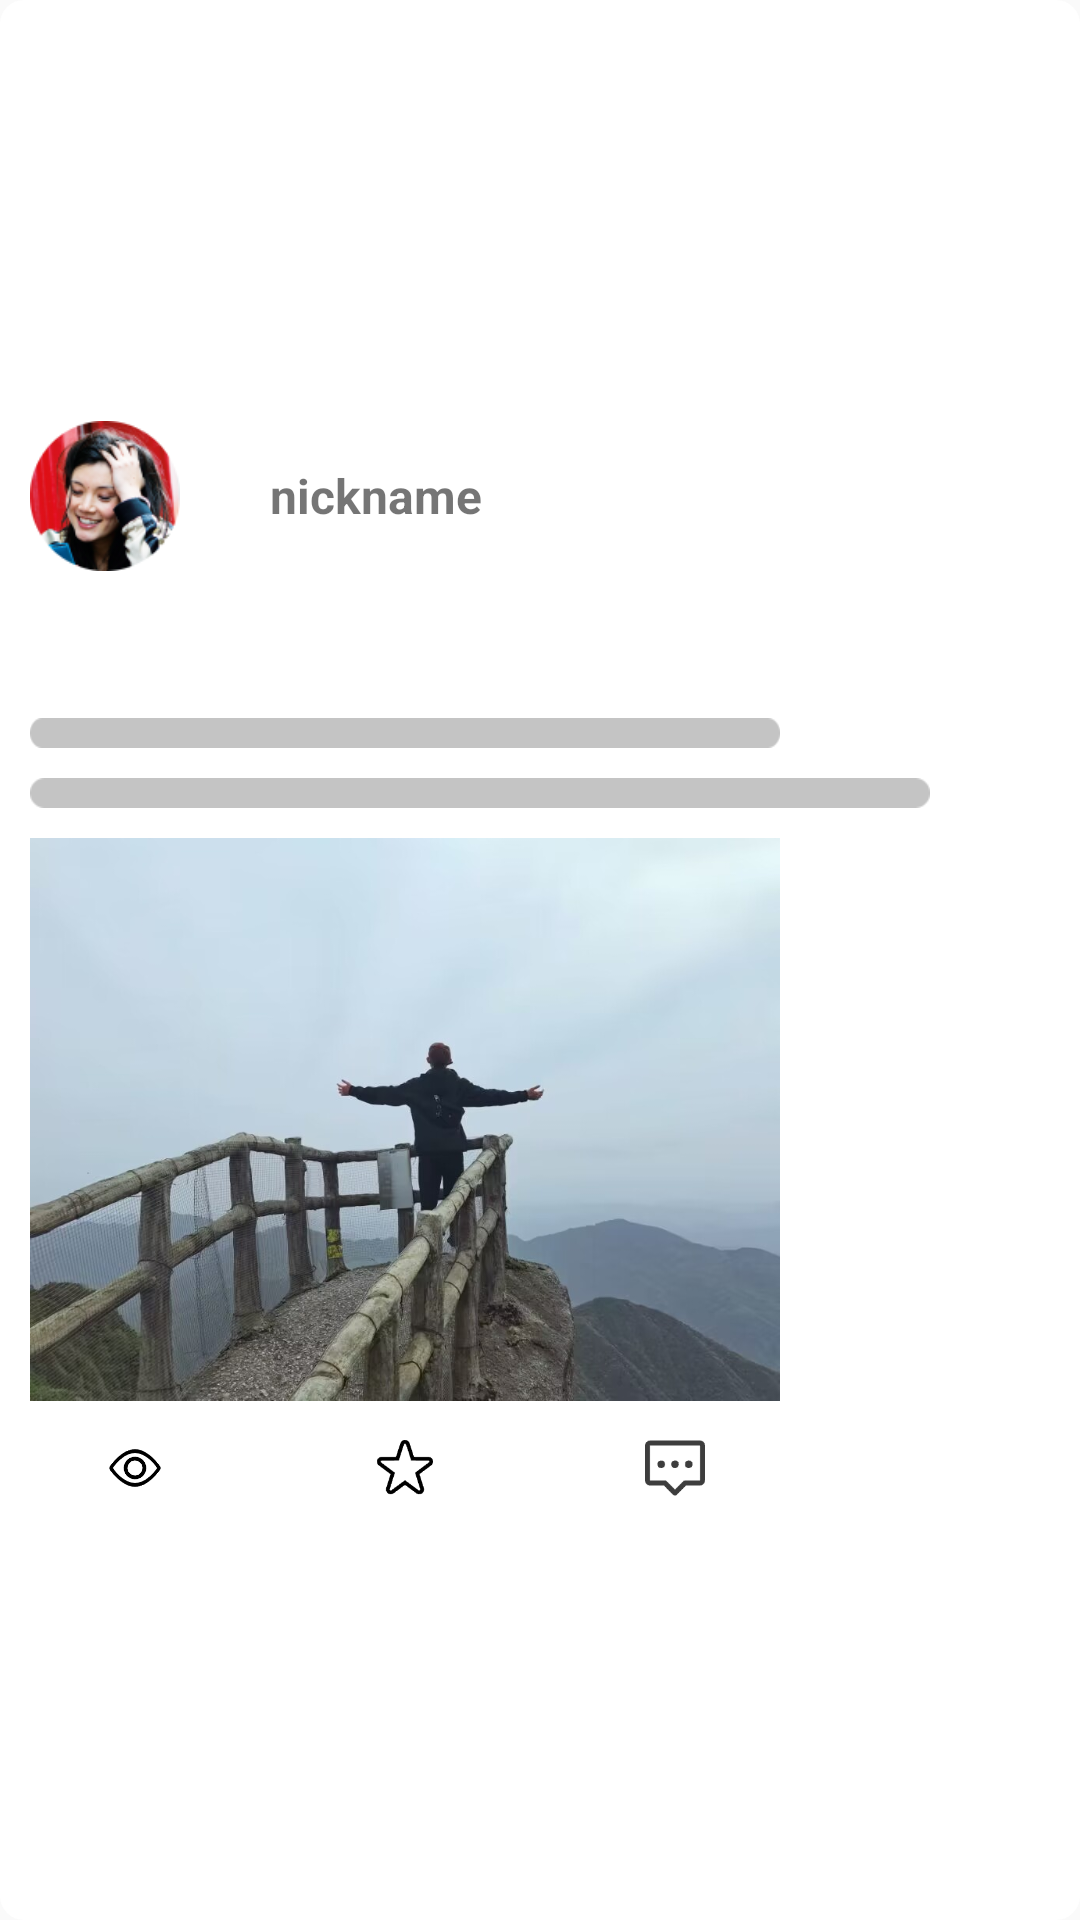

Point at icon controls on the screen. Image size 1080x1920, points as (x=x, y=y).
comment count: (x=675, y=1468)
head photo: (x=105, y=496)
watch count: (x=135, y=1468)
